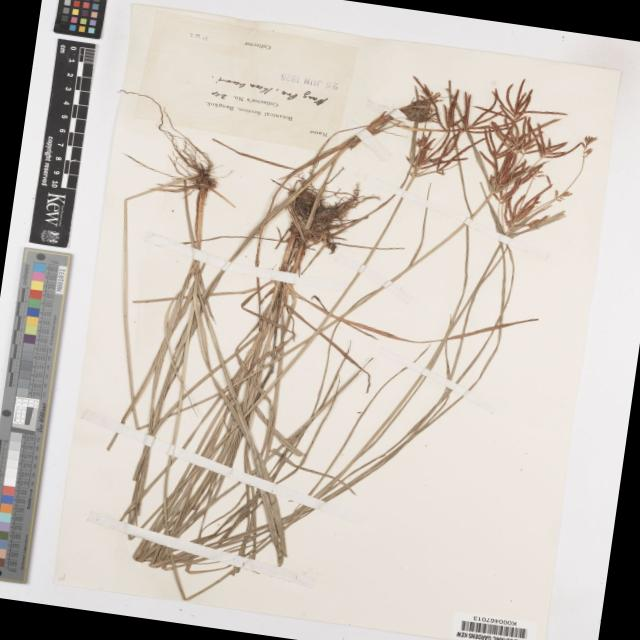cyperus: (452, 77, 583, 184), (489, 180, 574, 240)
